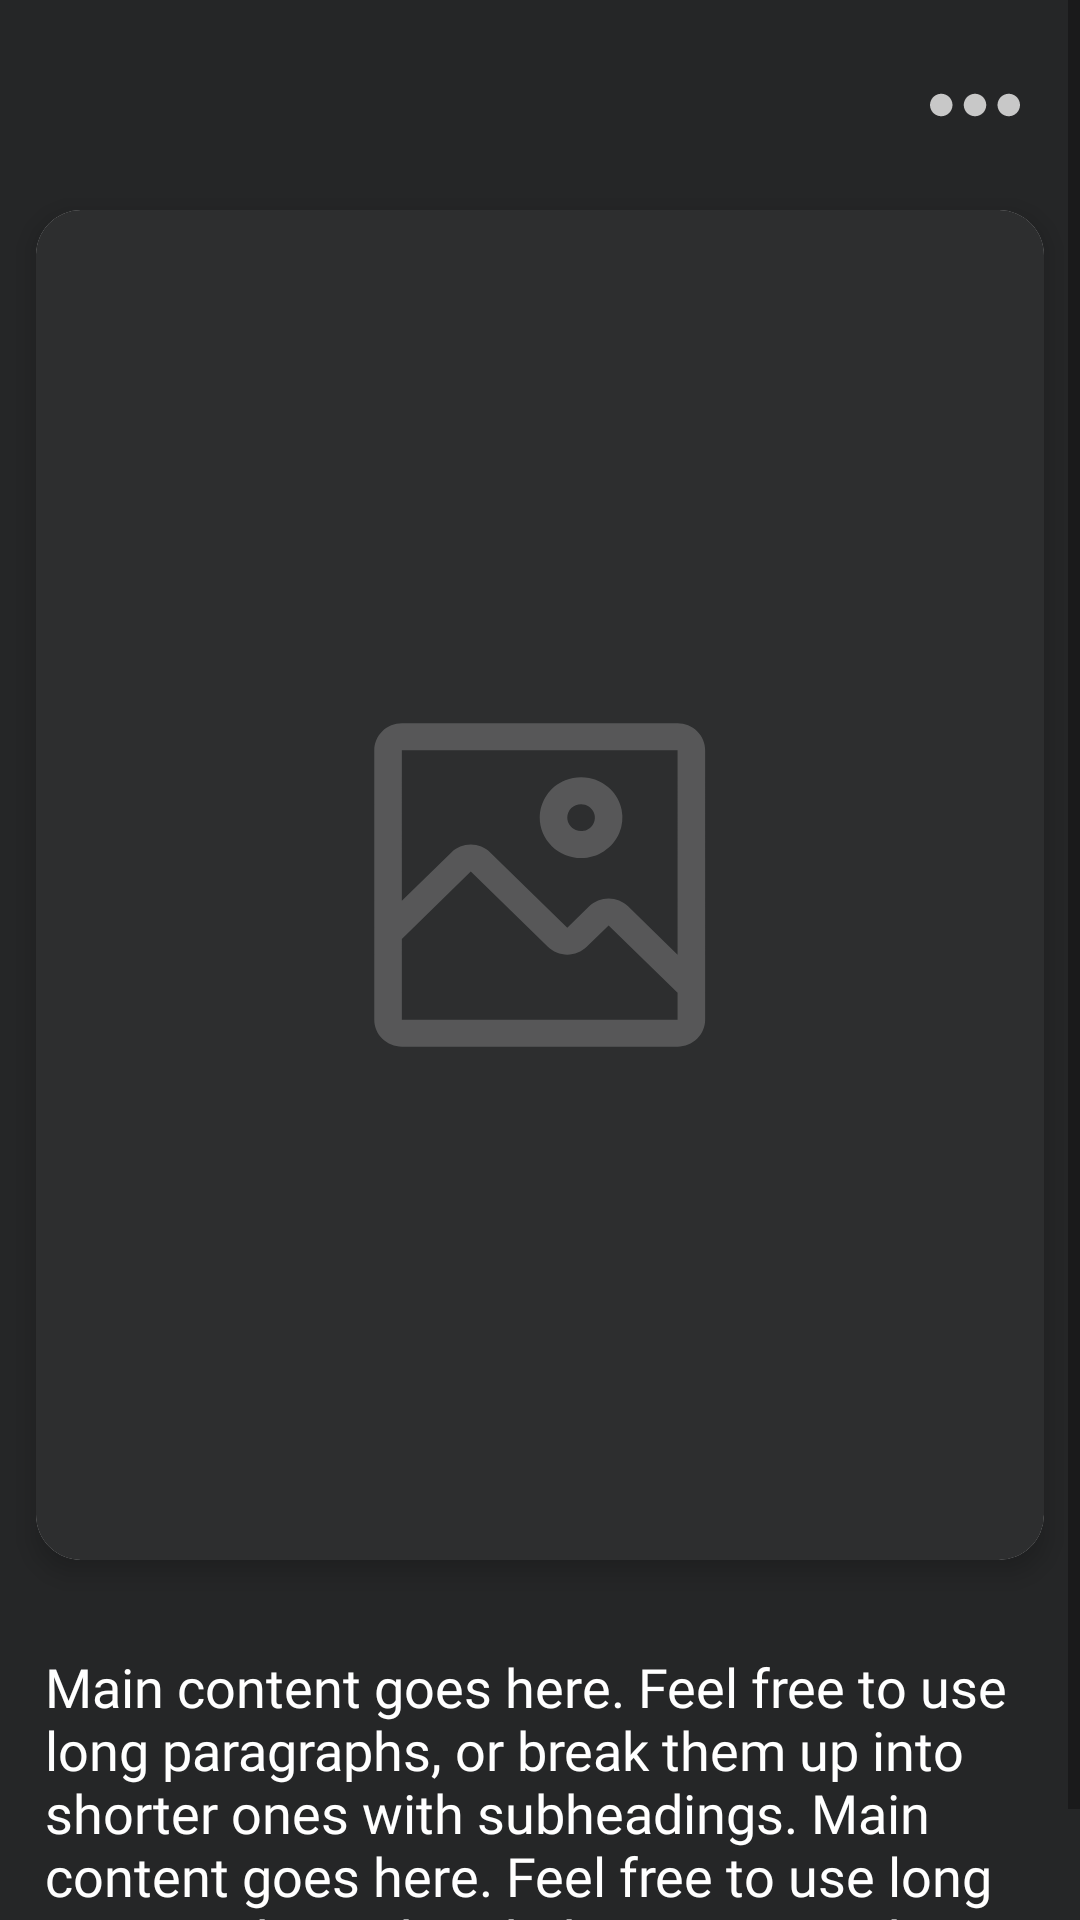

Named icons in this screenshot (1080 x 1920) and their bounding boxes, Rect(x1, y1, x2, y2):
menu: Rect(930, 93, 1020, 117)
